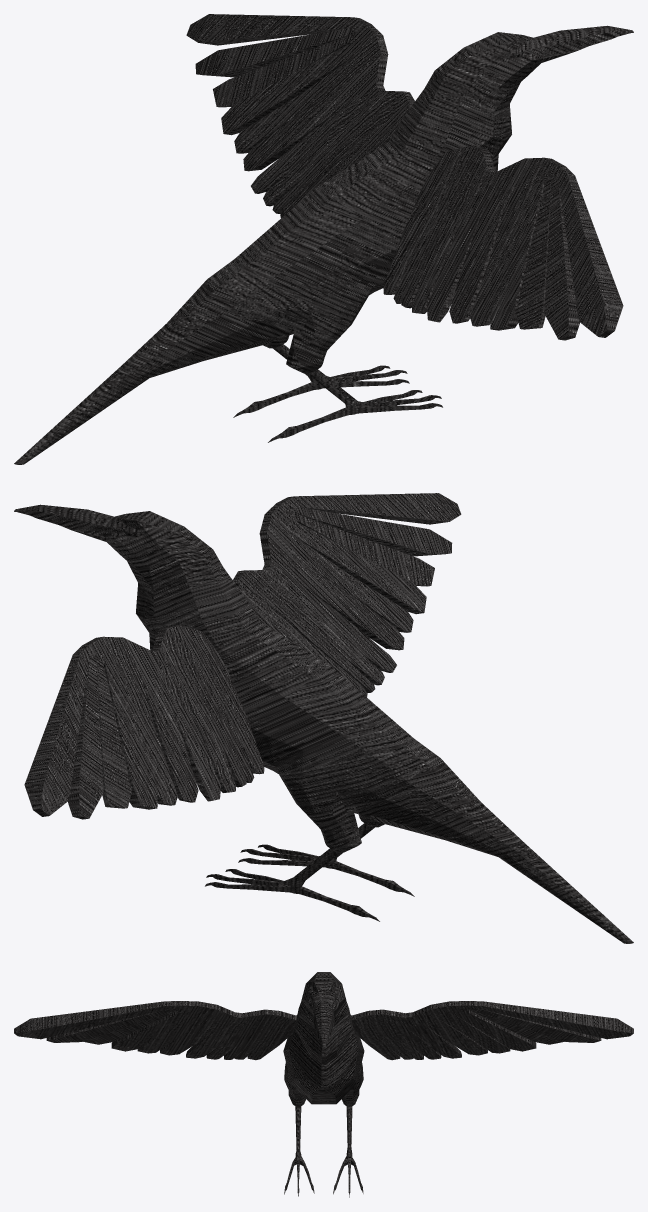
File: Crow.obj
The picture shows the model from 3 angles, top to bottom: view 1: azimuth 30°, elevation 25°; view 2: azimuth 150°, elevation 25°; view 3: azimuth 270°, elevation 25°; orthographic projection. The views are drawn at different scales.
Visible parts, largest first — view 1: Cylinder; view 2: Cylinder; view 3: Cylinder.
Part boxes in pixels (x1=…): Cylinder: x1=14, y1=14, x2=633, y2=464; Cylinder: x1=14, y1=493, x2=633, y2=943; Cylinder: x1=14, y1=972, x2=633, y2=1197.
Size of the model in its own units: 3.46 by 1.77 by 4.04.
2 materials, 2 textured.
